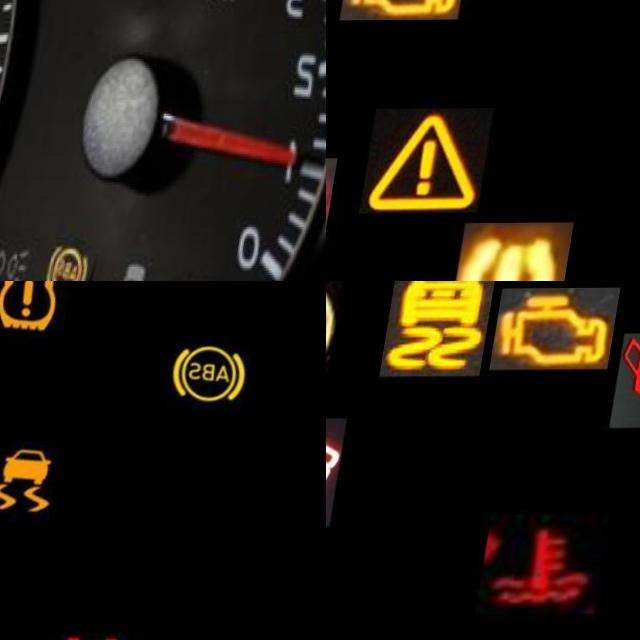Central Warning lamp: (372, 108, 504, 214)
Engine cooling system: (488, 514, 619, 615)
